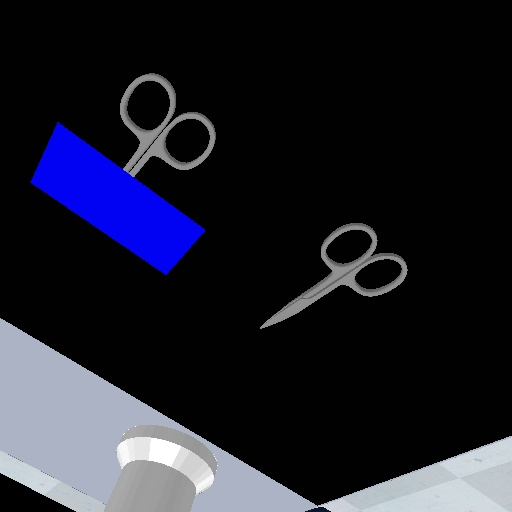tijera: (256, 215, 411, 334), (117, 68, 221, 181)
